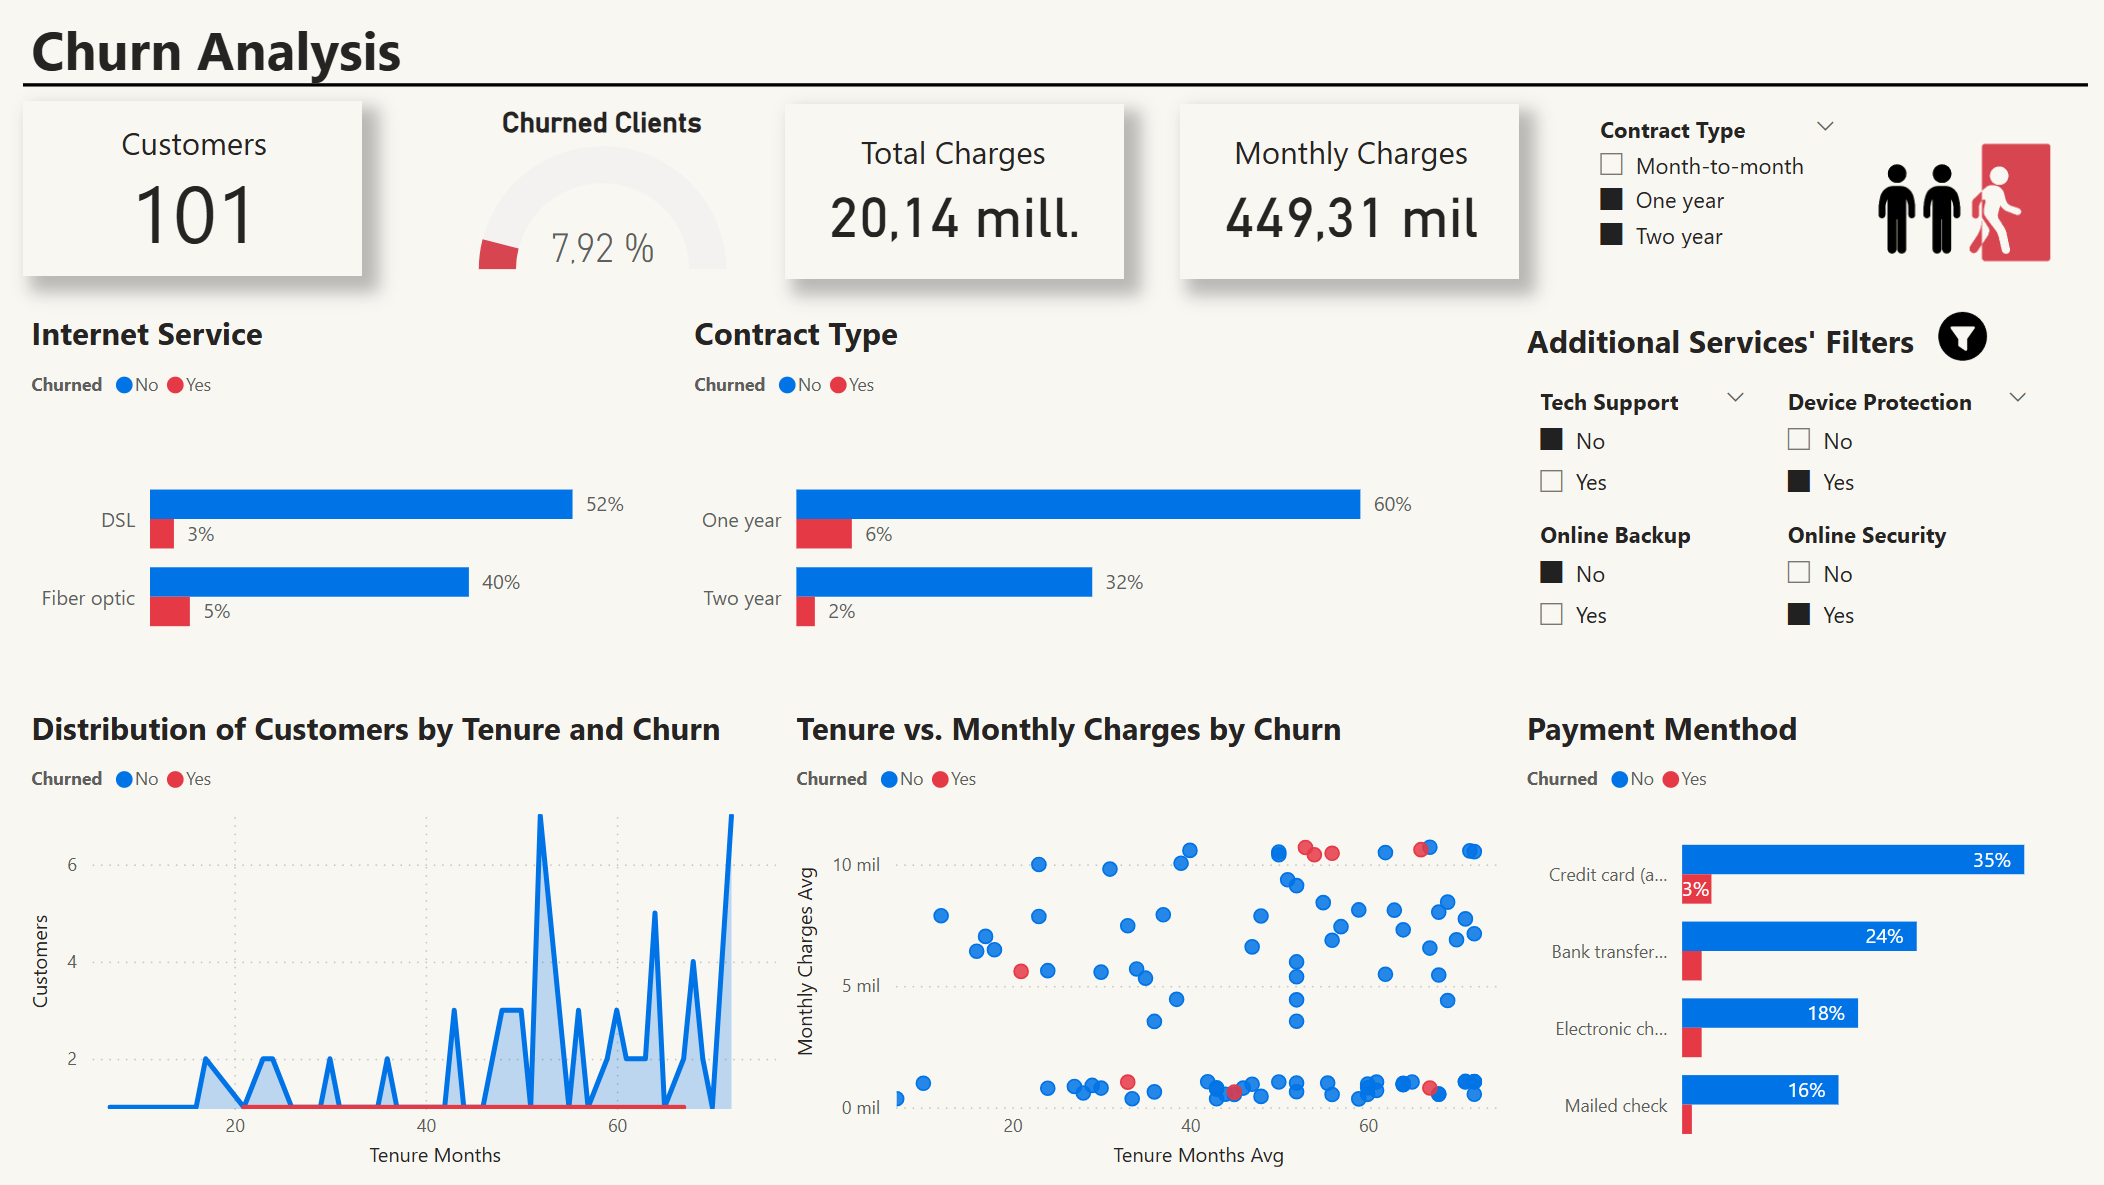

This screenshot's page, from the dashboard's own definition file:
{"tool":"powerbi","page":{"name":"Churn Analysis","canvas":[1280,720],"ordinal":0},"visuals":[{"type":"card","title":"Customers","fields":{"Values":["CountNonNull(clean_customerChurn.Churn Label)"]},"box":[50,78.8,146.2,81.2],"z":0},{"type":"gauge","title":"Churned Clients","fields":{"Y":["clean_customerChurn.PctChurned"]},"box":[257.5,68.8,220,103.8],"z":1000},{"type":"clusteredBarChart","title":"Internet Service","fields":{"Y":["CountNonNull(clean_customerChurn.Internet Service)"],"Series":["clean_customerChurn.Churn Label"],"Category":["clean_customerChurn.Internet Service"]},"box":[20,192.5,366.2,237.5],"z":2000},{"type":"clusteredBarChart","title":"Contract Type","fields":{"Category":["clean_customerChurn.Contract"],"Y":["Divide(CountNonNull(clean_customerChurn.Contract), ScopedEval(CountNonNull(clean_customerChurn.Contract), []))"],"Series":["clean_customerChurn.Churn Label"]},"box":[418.8,192.5,442.5,237.5],"z":3000},{"type":"clusteredBarChart","title":"Payment Menthod","fields":{"Category":["clean_customerChurn.Payment Method"],"Y":["CountNonNull(clean_customerChurn.Payment Method)"],"Series":["clean_customerChurn.Churn Label"]},"box":[918.9,429.9,339.5,281.6],"z":4000},{"type":"areaChart","title":"Distribution of Customers by Tenure and Churn","fields":{"Category":["clean_customerChurn.Tenure Months"],"Series":["clean_customerChurn.Churn Label"],"Y":["CountNonNull(clean_customerChurn.Churn Label)"]},"box":[19.7,429.9,457.7,281.6],"z":5000},{"type":"scatterChart","title":"Tenure vs. Monthly Charges by Churn","fields":{"Y":["Avg(clean_customerChurn.Monthly Charges)"],"X":["Avg(clean_customerChurn.Tenure Months)"],"Series":["clean_customerChurn.Churn Label"],"Category":["clean_customerChurn.Monthly Charges"]},"box":[479.7,429.9,439.2,281.6],"z":6000},{"type":"slicer","fields":{"Values":["clean_customerChurn.Contract"]},"box":[955,68.8,166.2,105],"z":7000},{"type":"card","title":"Total Charges","fields":{"Values":["Sum(clean_customerChurn.Total Charges)"]},"box":[480,83.8,198.8,73.8],"z":8000},{"type":"card","title":"Monthly Charges","fields":{"Values":["Sum(clean_customerChurn.Monthly Charges)"]},"box":[732.5,83.8,170,73.8],"z":9000},{"type":"textbox","box":[19.7,7,286.2,56.8],"z":10000},{"type":"shape","box":[20,50,1241.1,13.7],"z":11000},{"type":"shape","box":[20,66.2,203.8,105],"z":12000},{"type":"shape","box":[477.5,67.5,203.8,105],"z":13000},{"type":"shape","box":[715,67.5,203.8,105],"z":14000},{"type":"slicer","fields":{"Values":["clean_customerChurn.Tech Support"]},"box":[918.9,231.7,148.3,80],"z":16000},{"type":"slicer","fields":{"Values":["clean_customerChurn.Device Protection"]},"box":[1067.2,231.7,169.2,80],"z":17000},{"type":"slicer","fields":{"Values":["clean_customerChurn.Online Backup"]},"box":[918.9,311.7,148.3,80],"z":18000},{"type":"slicer","fields":{"Values":["clean_customerChurn.Online Security"]},"box":[1067.2,311.7,169.2,80],"z":19000},{"type":"textbox","box":[918.9,192.3,253.8,34.8],"z":20000},{"type":"image","box":[1163.4,187.7,45.2,39.4],"z":20001},{"type":"image","box":[1122.8,56.8,135.6,135.6],"z":20002}]}

Visuals, with their boxes in screenshot pixels (x1, y1, x2, y2), scaled from the page's 1280x720 canvas onto the 2104x1185 screenshot:
"Customers" card: pyautogui.locateOnScreen(82, 130, 323, 263)
"Churned Clients" gauge: pyautogui.locateOnScreen(423, 113, 785, 284)
"Internet Service" clusteredBarChart: pyautogui.locateOnScreen(33, 317, 635, 708)
"Contract Type" clusteredBarChart: pyautogui.locateOnScreen(688, 317, 1416, 708)
"Payment Menthod" clusteredBarChart: pyautogui.locateOnScreen(1510, 708, 2068, 1171)
"Distribution of Customers by Tenure and Churn" areaChart: pyautogui.locateOnScreen(32, 708, 785, 1171)
"Tenure vs. Monthly Charges by Churn" scatterChart: pyautogui.locateOnScreen(789, 708, 1510, 1171)
slicer - clean_customerChurn.Contract: pyautogui.locateOnScreen(1570, 113, 1843, 286)
"Total Charges" card: pyautogui.locateOnScreen(789, 138, 1116, 259)
"Monthly Charges" card: pyautogui.locateOnScreen(1204, 138, 1483, 259)
textbox: pyautogui.locateOnScreen(32, 12, 503, 105)
shape: pyautogui.locateOnScreen(33, 82, 2073, 105)
shape: pyautogui.locateOnScreen(33, 109, 368, 282)
shape: pyautogui.locateOnScreen(785, 111, 1120, 284)
shape: pyautogui.locateOnScreen(1175, 111, 1510, 284)
slicer - clean_customerChurn.Tech Support: pyautogui.locateOnScreen(1510, 381, 1754, 513)
slicer - clean_customerChurn.Device Protection: pyautogui.locateOnScreen(1754, 381, 2032, 513)
slicer - clean_customerChurn.Online Backup: pyautogui.locateOnScreen(1510, 513, 1754, 645)
slicer - clean_customerChurn.Online Security: pyautogui.locateOnScreen(1754, 513, 2032, 645)
textbox: pyautogui.locateOnScreen(1510, 316, 1928, 374)
image: pyautogui.locateOnScreen(1912, 309, 1987, 374)
image: pyautogui.locateOnScreen(1846, 93, 2068, 317)
